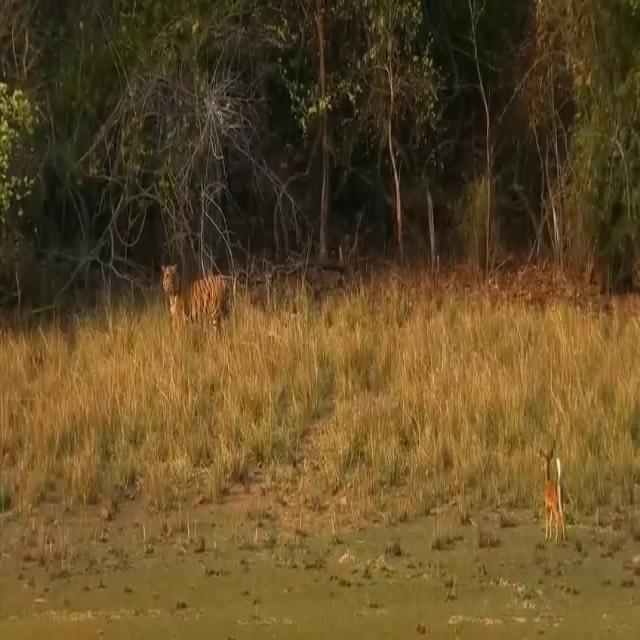tiger: (161, 262, 224, 338)
